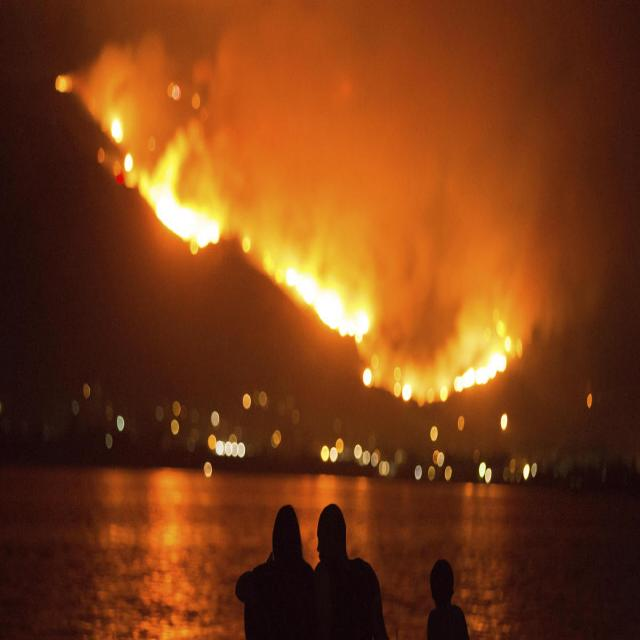Fire: (54, 48, 377, 346), (405, 317, 529, 400)
